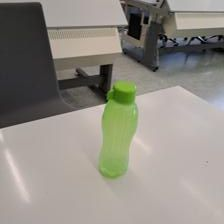bottle: (94, 80, 140, 179)
